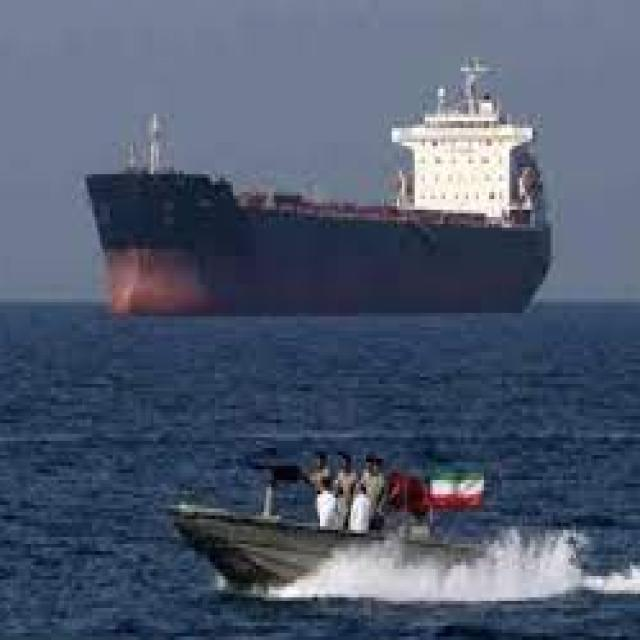cargoship: (79, 83, 560, 315)
houseboat: (174, 444, 572, 601)
